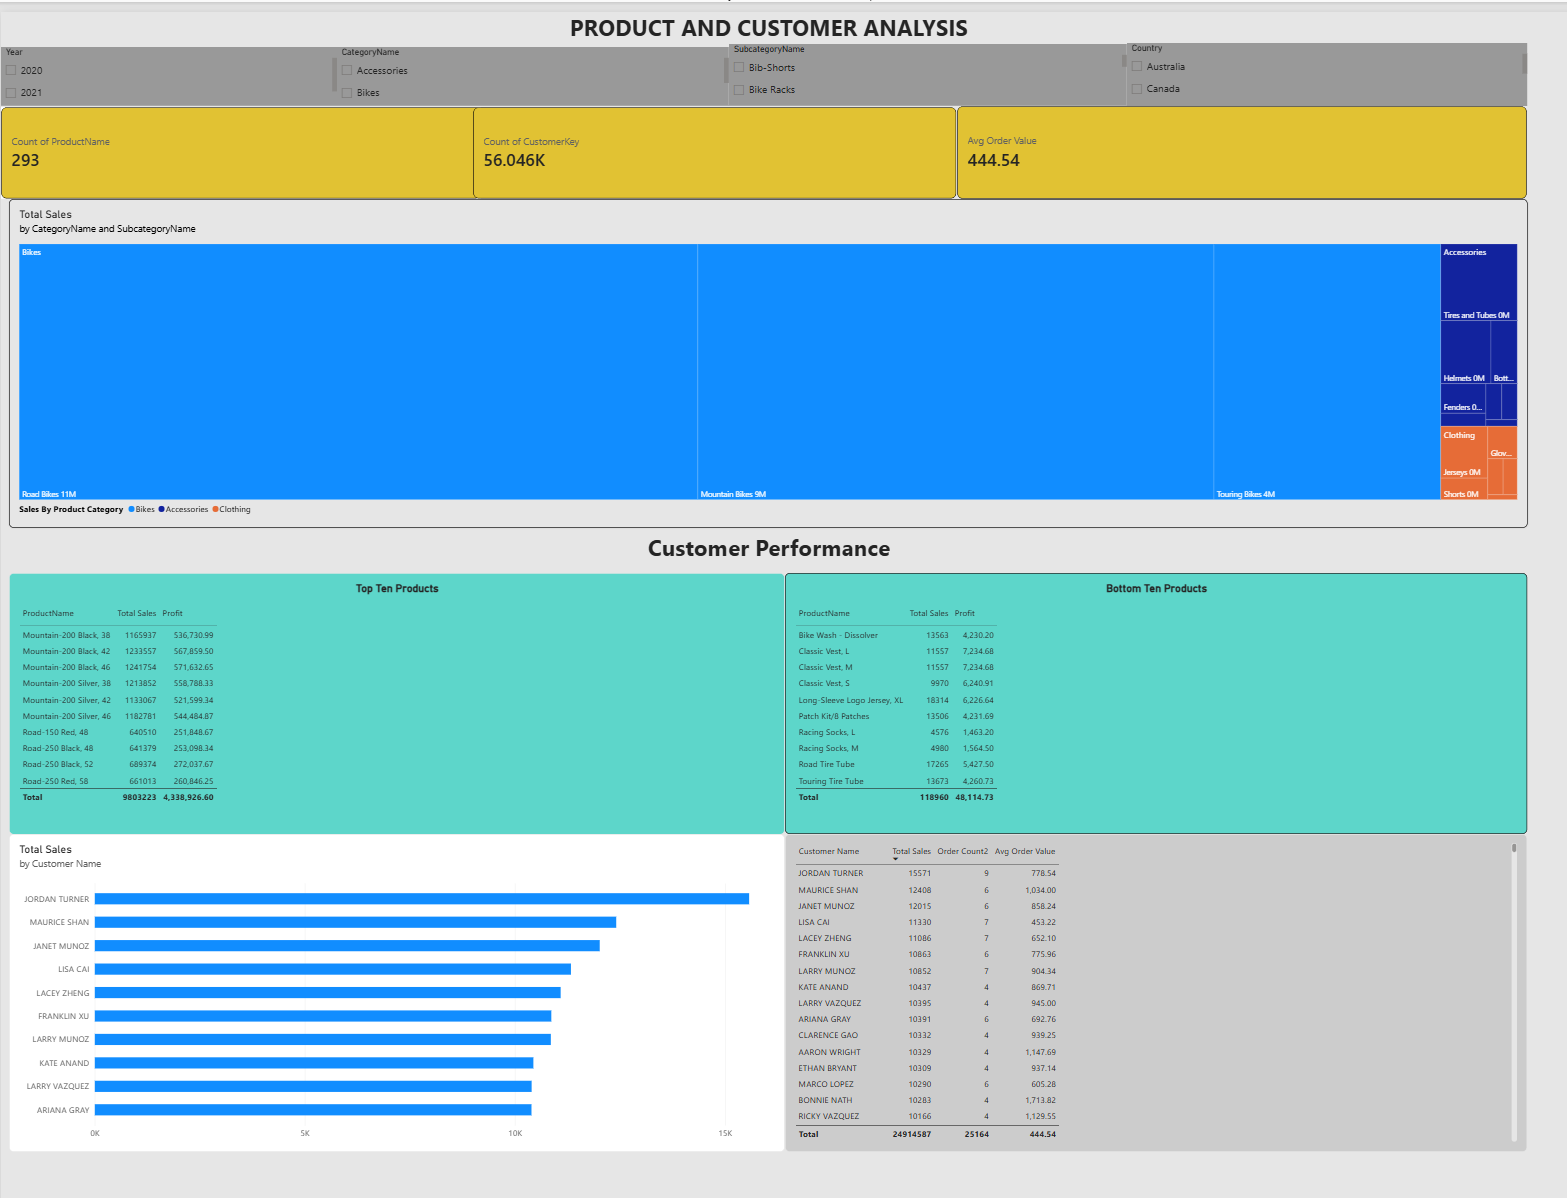

What the dashboard file says about the page in this screenshot:
{"tool":"powerbi","page":{"name":"PRODUCT AND CUSTOMER","canvas":[3840,2160],"ordinal":1},"visuals":[{"type":"textbox","box":[0,0,2560.3,51.4],"z":0},{"type":"slicer","fields":{"Values":["Sales_All_Years.OrderDate.Variation.Date Hierarchy.Year"]},"box":[0,58.3,560,98.3],"z":1000},{"type":"slicer","fields":{"Values":["AdventureWorks Product Categori.CategoryName"]},"box":[560,58.3,653.3,98.3],"z":2000},{"type":"slicer","fields":{"Values":["AdventureWorks Product Subcateg.SubcategoryName"]},"box":[1213.3,53.3,663.3,103.3],"z":3000},{"type":"slicer","fields":{"Values":["AdventureWorks Territory Lookup.Country"]},"box":[1876.7,51.7,666.7,105],"z":4000},{"type":"cardVisual","fields":{"Data":["Count(AdventureWorks Product Lookup.ProductName)"]},"box":[0,158.3,800,153.3],"z":5000},{"type":"cardVisual","fields":{"Data":["CountNonNull(Sales_All_Years.CustomerKey)"]},"box":[786.7,158.3,806.7,153.3],"z":6000},{"type":"cardVisual","fields":{"Data":["Sales_All_Years.Avg Order Value"]},"box":[1593.3,156.7,950,155],"z":7000},{"type":"textbox","box":[0,360,1522,62],"z":8000},{"type":"treemap","fields":{"Details":["AdventureWorks Product Subcateg.SubcategoryName"],"Group":["AdventureWorks Product Categori.CategoryName"],"Values":["Sales_All_Years.Total Sales"]},"box":[14,311.5,2530.7,548.2],"z":9000},{"type":"tableEx","title":"Top Ten Products","fields":{"Values":["AdventureWorks Product Lookup.ProductName","Sales_All_Years.Total Sales","Sales_All_Years.Profit"]},"box":[14,934.4,1292.6,436.1],"z":10000},{"type":"tableEx","title":"Bottom Ten Products","fields":{"Values":["AdventureWorks Product Lookup.ProductName","Sales_All_Years.Total Sales","Sales_All_Years.Profit"]},"box":[1306.7,935,1236.7,435],"z":11000},{"type":"textbox","box":[0,867.5,2560.3,67],"z":12000},{"type":"tableEx","fields":{"Values":["AdventureWorks Customer Lookup.Customer Name","Sales_All_Years.Total Sales","Sales_All_Years.Order Count2","Sales_All_Years.Avg Order Value"]},"box":[1306.7,1370,1236.7,530],"z":13000},{"type":"clusteredBarChart","fields":{"Category":["AdventureWorks Customer Lookup.Customer Name"],"Y":["Sales_All_Years.Total Sales"]},"box":[14,1370.5,1292.6,529.5],"z":14000}]}

Visuals, with their boxes on the page's 3840x2160 design canvas (x1, y1, x2, y2). These are canvas units, not pixel positions in the 1567x1198 screenshot, which may show the page scaled, cropped or inside an application window:
textbox: x1=0, y1=0, x2=2560, y2=51
slicer - Sales_All_Years.OrderDate.Variation.Date Hierarchy.Year: x1=0, y1=58, x2=560, y2=157
slicer - AdventureWorks Product Categori.CategoryName: x1=560, y1=58, x2=1213, y2=157
slicer - AdventureWorks Product Subcateg.SubcategoryName: x1=1213, y1=53, x2=1877, y2=157
slicer - AdventureWorks Territory Lookup.Country: x1=1877, y1=52, x2=2543, y2=157
cardVisual - Count(AdventureWorks Product Lookup.ProductName): x1=0, y1=158, x2=800, y2=312
cardVisual - CountNonNull(Sales_All_Years.CustomerKey): x1=787, y1=158, x2=1593, y2=312
cardVisual - Sales_All_Years.Avg Order Value: x1=1593, y1=157, x2=2543, y2=312
textbox: x1=0, y1=360, x2=1522, y2=422
treemap - AdventureWorks Product Subcateg.SubcategoryName x AdventureWorks Product Categori.CategoryName: x1=14, y1=312, x2=2545, y2=860
"Top Ten Products" tableEx: x1=14, y1=934, x2=1307, y2=1370
"Bottom Ten Products" tableEx: x1=1307, y1=935, x2=2543, y2=1370
textbox: x1=0, y1=868, x2=2560, y2=934
tableEx - AdventureWorks Customer Lookup.Customer Name x Sales_All_Years.Total Sales: x1=1307, y1=1370, x2=2543, y2=1900
clusteredBarChart - AdventureWorks Customer Lookup.Customer Name x Sales_All_Years.Total Sales: x1=14, y1=1370, x2=1307, y2=1900
